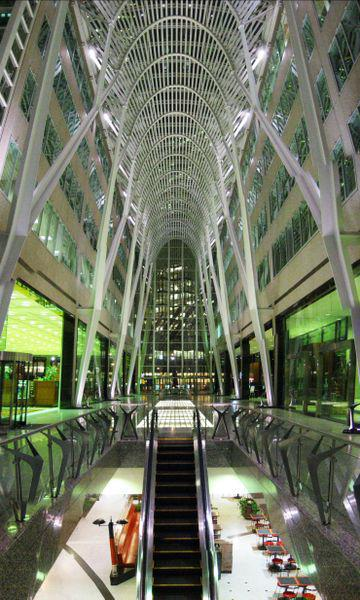Escaleras: (136, 412, 217, 598)
